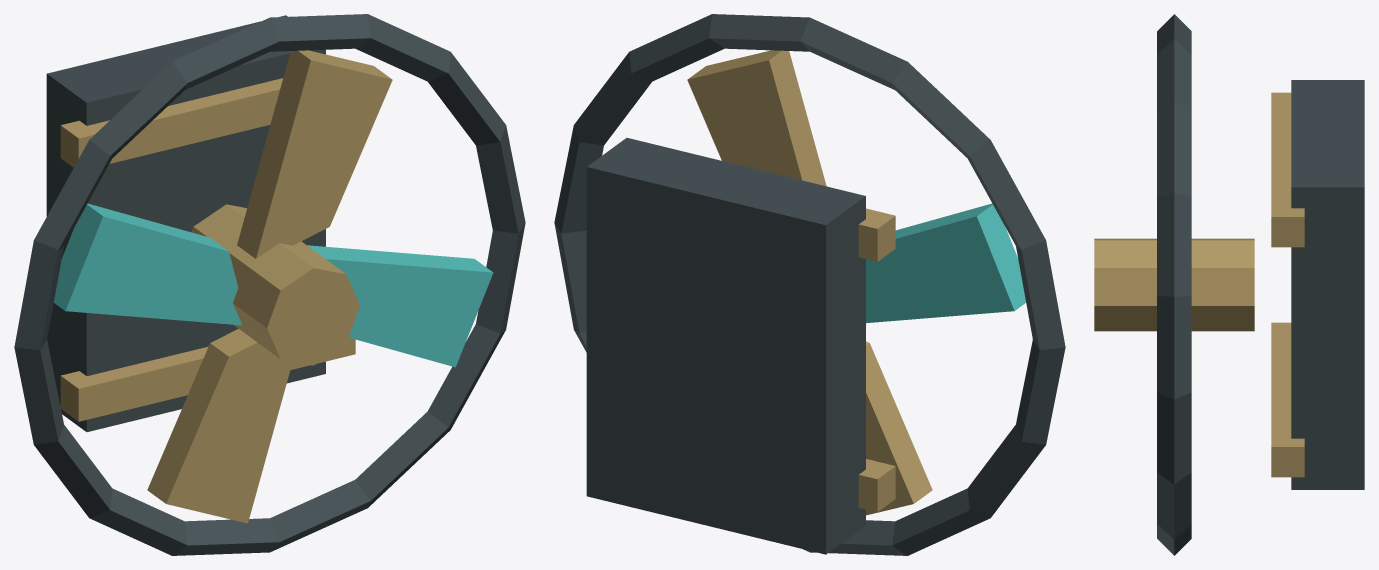
The model's file is Equip_FanGuard.fbx.
3 views of the same model, side by side, from view 1: azimuth 30°, elevation 25°; view 2: azimuth 150°, elevation 25°; view 3: azimuth 270°, elevation 25° (orthographic). The views are drawn at different scales.
Visible parts, largest first — view 1: Equip_FanGuard; view 2: Equip_FanGuard; view 3: Equip_FanGuard.
Boxes of the visible parts, box(x1,y1,x2,y2) form: Equip_FanGuard: box(14, 14, 525, 555); Equip_FanGuard: box(554, 14, 1065, 555); Equip_FanGuard: box(1094, 14, 1364, 555).
Size of the model in its own units: 0.406 by 0.406 by 0.2025.
